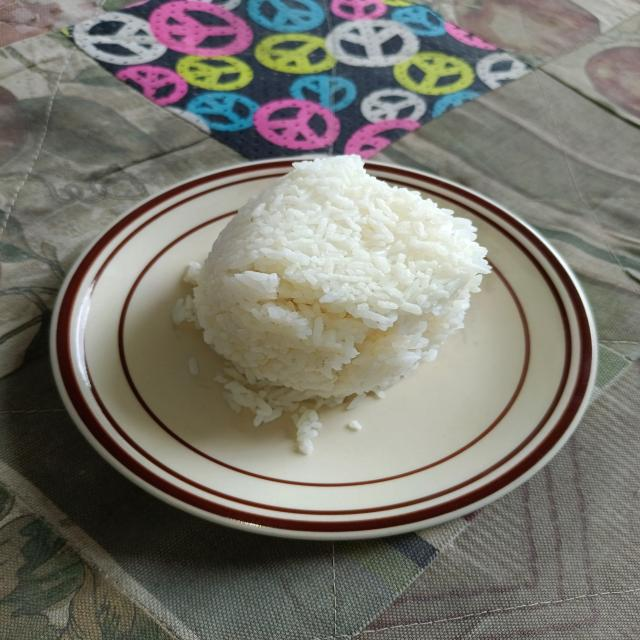Chicken -Chicken Inasal-: (216, 170, 483, 406)
